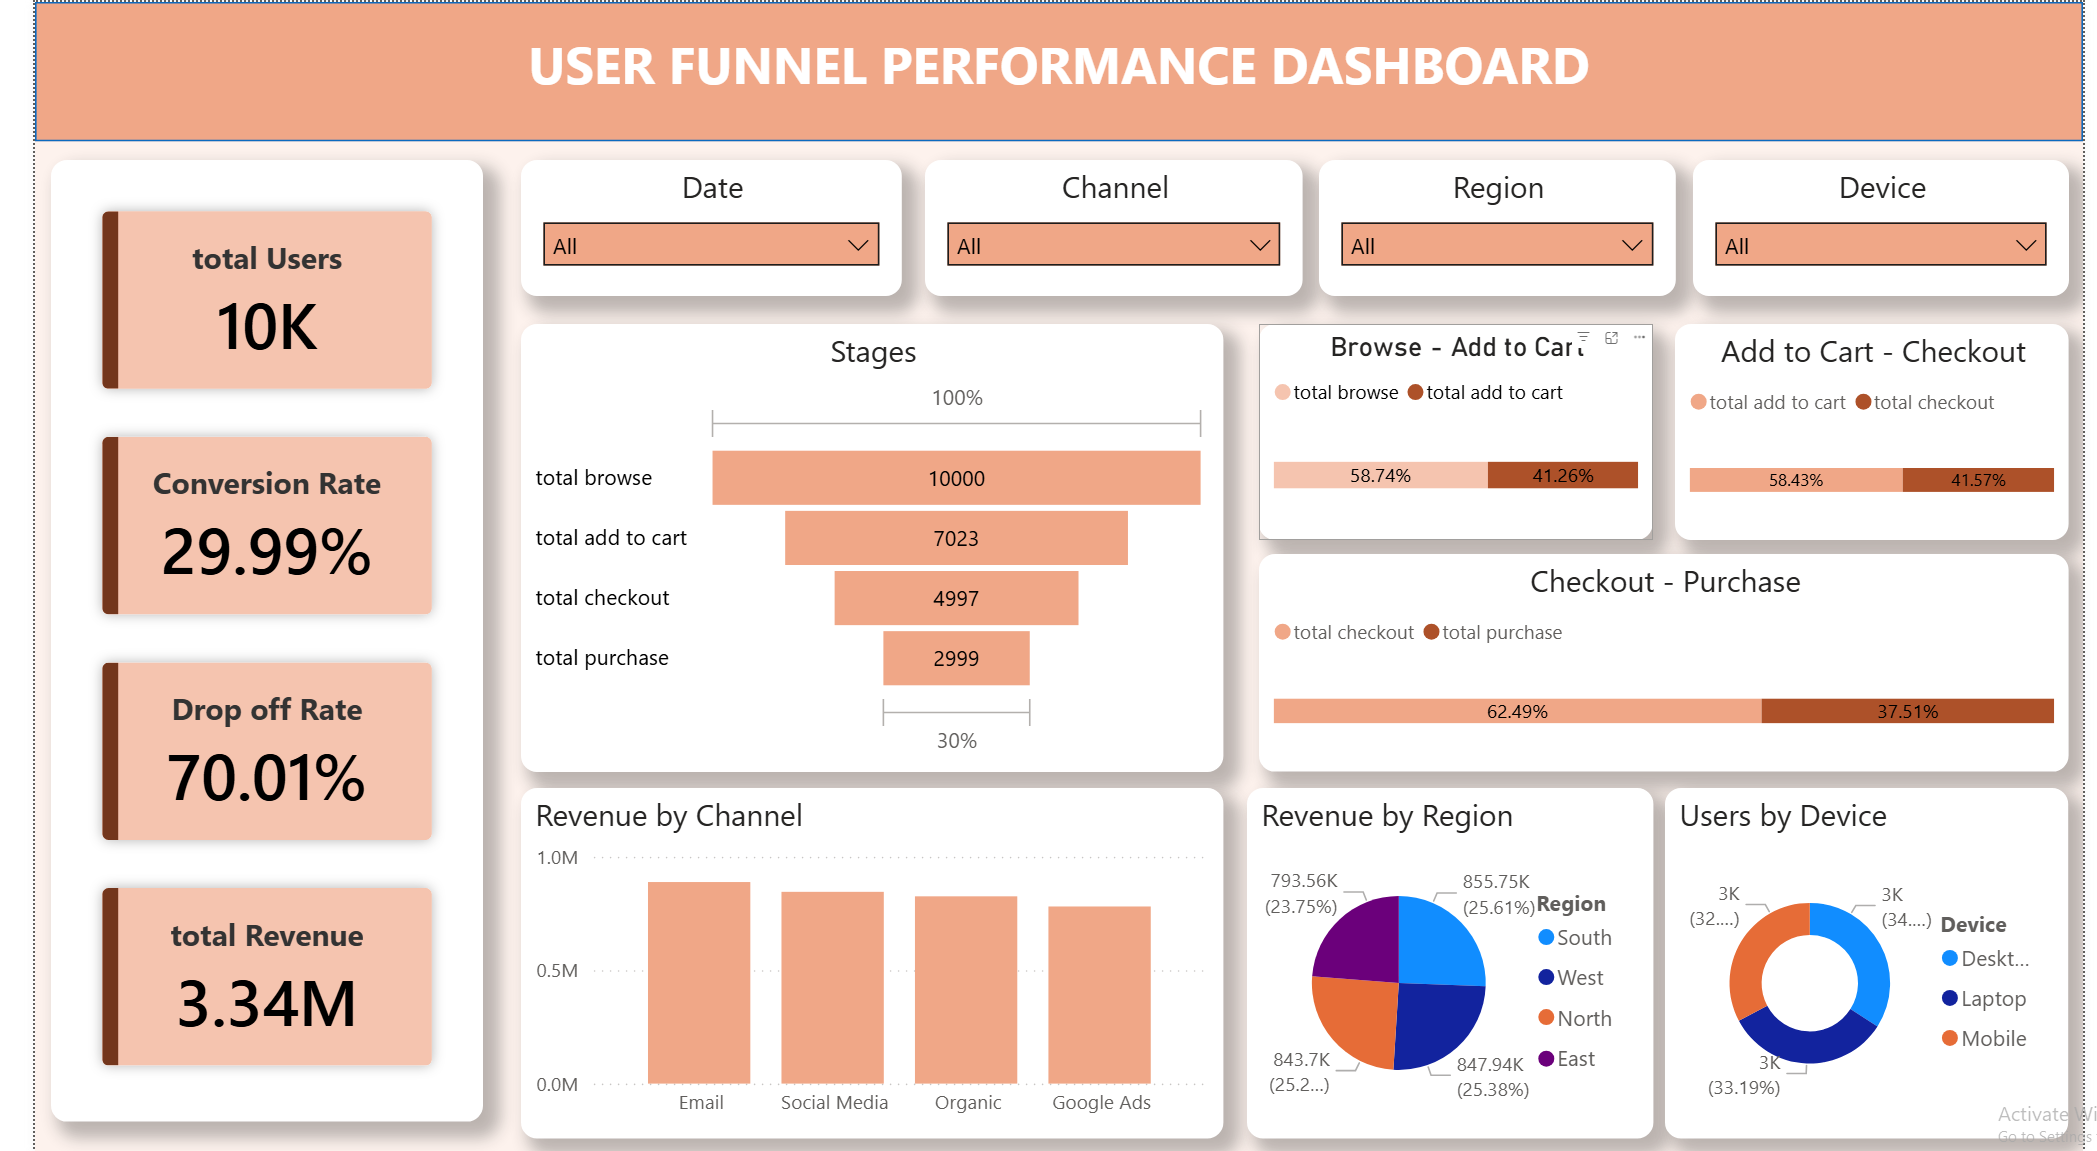

This screenshot's page, from the dashboard's own definition file:
{"tool":"powerbi","page":{"name":"Page 1","canvas":[1280,720],"ordinal":0},"visuals":[{"type":"shape","box":[0,0,1280,87.1],"z":0},{"type":"textbox","box":[0,11.4,1280,75.7],"z":1},{"type":"slicer","title":"Date","fields":{"Values":["funnel_analysis_data.Date.Variation.Date Hierarchy.Day"]},"box":[303.8,98.8,237.5,85],"z":2},{"type":"slicer","title":"Channel","fields":{"Values":["funnel_analysis_data.Channel"]},"box":[556.2,98.8,236.2,85],"z":3},{"type":"slicer","title":"Region","fields":{"Values":["funnel_analysis_data.Region"]},"box":[802.5,98.8,222.5,85],"z":4},{"type":"slicer","title":"Device","fields":{"Values":["funnel_analysis_data.Device"]},"box":[1036.2,98.8,235,85],"z":5},{"type":"cardVisual","fields":{"Data":["Measures Table.total Users","Measures Table.Conversion Rate","Measures Table.Drop off Rate","Measures Table.total Revenue"]},"box":[10,98.6,270,601.4],"z":6},{"type":"funnel","title":"Stages","fields":{"Y":["Measures Table.total browse","Measures Table.total add to cart","Measures Table.total checkout","Measures Table.total purchase"]},"box":[303.8,201.2,438.8,280],"z":7},{"type":"hundredPercentStackedBarChart","title":"Browse - Add to Cart","fields":{"Y":["Measures Table.total browse","Measures Table.total add to cart"]},"box":[765,201.2,246.2,135],"z":8},{"type":"hundredPercentStackedBarChart","title":"Add to Cart - Checkout","fields":{"Y":["Measures Table.total add to cart","Measures Table.total checkout"]},"box":[1025,201.2,246.2,135],"z":9},{"type":"hundredPercentStackedBarChart","title":"Checkout - Purchase","fields":{"Y":["Measures Table.total checkout","Measures Table.total purchase"]},"box":[765,345,506.2,136.2],"z":10},{"type":"columnChart","title":"Revenue by Channel","fields":{"Category":["funnel_analysis_data.Channel"],"Y":["Sum(funnel_analysis_data.Revenue)"]},"box":[303.8,491.2,438.8,218.8],"z":11},{"type":"pieChart","title":"Revenue by Region","fields":{"Category":["funnel_analysis_data.Region"],"Y":["Sum(funnel_analysis_data.Revenue)"]},"box":[757.5,491.2,253.8,218.8],"z":12},{"type":"donutChart","title":"Users by Device","fields":{"Category":["funnel_analysis_data.Device"],"Y":["Measures Table.total Users"]},"box":[1019,491,252,219],"z":13}]}

Visuals, with their boxes in screenshot pixels (x1, y1, x2, y2), scaled from the page's 1280x720 canvas onto the 2097x1151 screenshot:
shape: {"left": 0, "top": 0, "right": 2096, "bottom": 139}
textbox: {"left": 0, "top": 18, "right": 2096, "bottom": 139}
"Date" slicer: {"left": 498, "top": 158, "right": 887, "bottom": 294}
"Channel" slicer: {"left": 911, "top": 158, "right": 1298, "bottom": 294}
"Region" slicer: {"left": 1315, "top": 158, "right": 1679, "bottom": 294}
"Device" slicer: {"left": 1698, "top": 158, "right": 2083, "bottom": 294}
cardVisual - Measures Table.total Users x Measures Table.Conversion Rate: {"left": 16, "top": 158, "right": 459, "bottom": 1119}
"Stages" funnel: {"left": 498, "top": 322, "right": 1217, "bottom": 769}
"Browse - Add to Cart" hundredPercentStackedBarChart: {"left": 1253, "top": 322, "right": 1657, "bottom": 537}
"Add to Cart - Checkout" hundredPercentStackedBarChart: {"left": 1679, "top": 322, "right": 2083, "bottom": 537}
"Checkout - Purchase" hundredPercentStackedBarChart: {"left": 1253, "top": 552, "right": 2083, "bottom": 769}
"Revenue by Channel" columnChart: {"left": 498, "top": 785, "right": 1217, "bottom": 1135}
"Revenue by Region" pieChart: {"left": 1241, "top": 785, "right": 1657, "bottom": 1135}
"Users by Device" donutChart: {"left": 1669, "top": 785, "right": 2082, "bottom": 1135}
